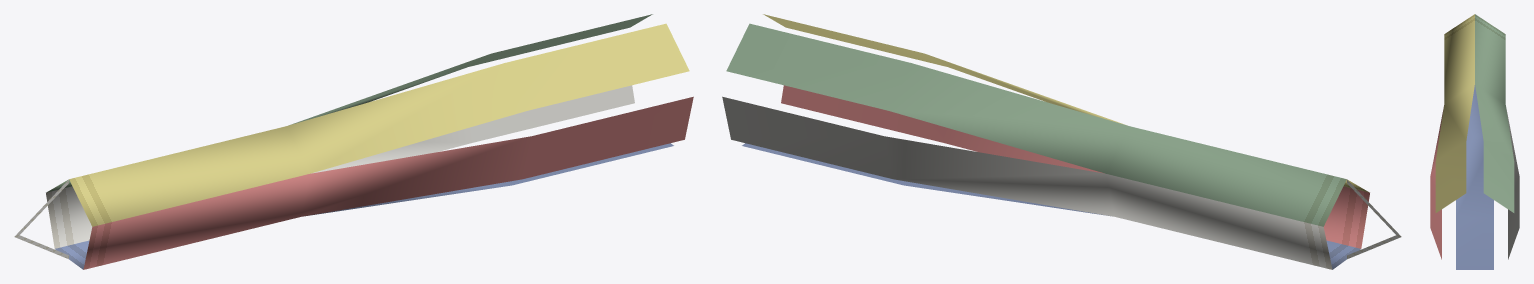
Rendered from 013b_Fukinagashi.glb.
The picture shows the model from 3 angles, left to right: view 1: azimuth 30°, elevation 25°; view 2: azimuth 150°, elevation 25°; view 3: azimuth 270°, elevation 25°; orthographic projection. The views are drawn at different scales.
Visible parts, largest first — view 1: part_0; view 2: part_0; view 3: part_0.
Boxes of the visible parts, bbox=[...] form: part_0: bbox=[14, 14, 693, 269]; part_0: bbox=[722, 14, 1401, 269]; part_0: bbox=[1430, 14, 1519, 269].
Size of the model in its own units: 5.6 by 0.9658 by 1.02.
1 material, 1 textured.
